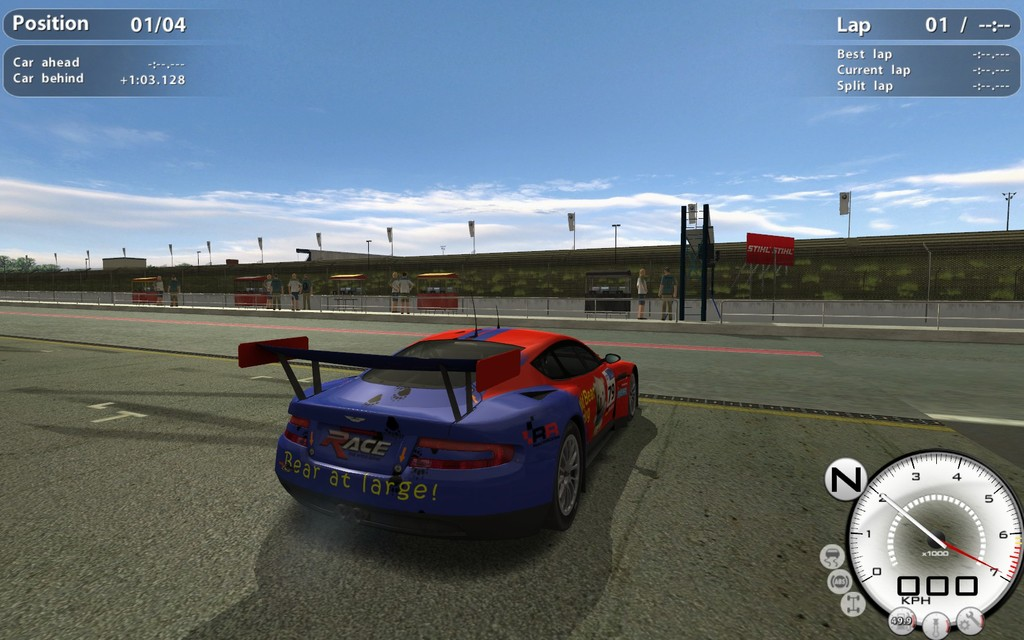Car: (234, 325, 675, 541)
